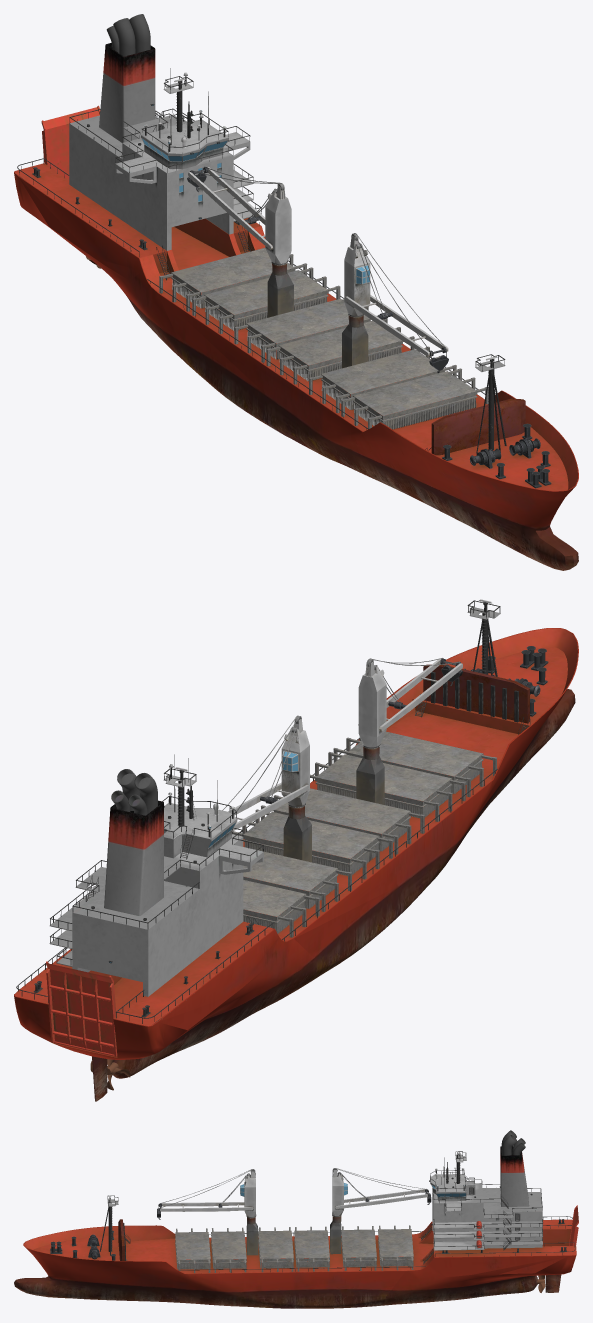
File: ship_cargo.glb
3 renders of one model, top to bottom at view 1: azimuth 30°, elevation 25°; view 2: azimuth 150°, elevation 25°; view 3: azimuth 270°, elevation 25°, orthographic. The views are drawn at different scales.
Visible parts, largest first — view 1: Object_9, Object_7, Object_8, Object_3, Object_6, Object_5, Object_2; view 2: Object_9, Object_7, Object_8, Object_3, Object_6, Object_5, Object_2, Object_4; view 3: Object_9, Object_7, Object_8, Object_3, Object_6, Object_5, Object_2.
Part boxes in pixels (x1,y1,x2,y2): Object_9: (14, 163, 578, 570); Object_7: (70, 115, 477, 429); Object_8: (69, 123, 551, 488); Object_3: (17, 14, 505, 450); Object_6: (33, 68, 494, 462); Object_5: (32, 77, 506, 453); Object_2: (19, 77, 504, 429); Object_9: (14, 628, 578, 1101); Object_7: (73, 731, 483, 972); Object_8: (72, 646, 548, 996); Object_3: (16, 600, 530, 1056); Object_6: (34, 602, 518, 1015); Object_5: (33, 599, 497, 1017); Object_2: (18, 601, 528, 1023); Object_4: (49, 607, 500, 1056); Object_9: (14, 1219, 576, 1308); Object_7: (175, 1174, 542, 1269); Object_8: (50, 1168, 542, 1260); Object_3: (107, 1130, 578, 1270); Object_6: (108, 1152, 566, 1272); Object_5: (99, 1151, 566, 1269); Object_2: (108, 1153, 567, 1272).
Size of the model in its own units: 14.13 by 25.01 by 80.
Materials: 3 (3 with a texture image).
